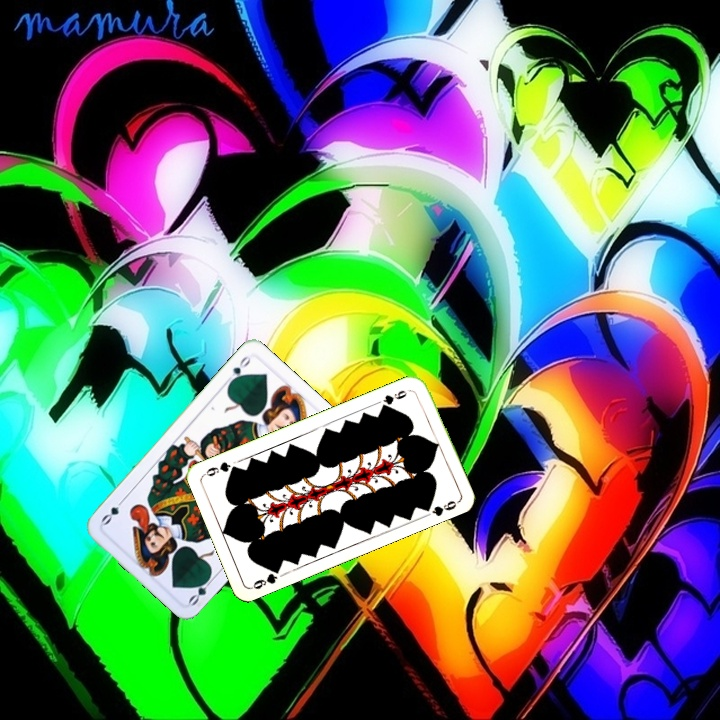G9: (247, 563, 283, 592), (377, 385, 414, 411)
GO: (184, 571, 217, 608), (222, 352, 254, 387)
